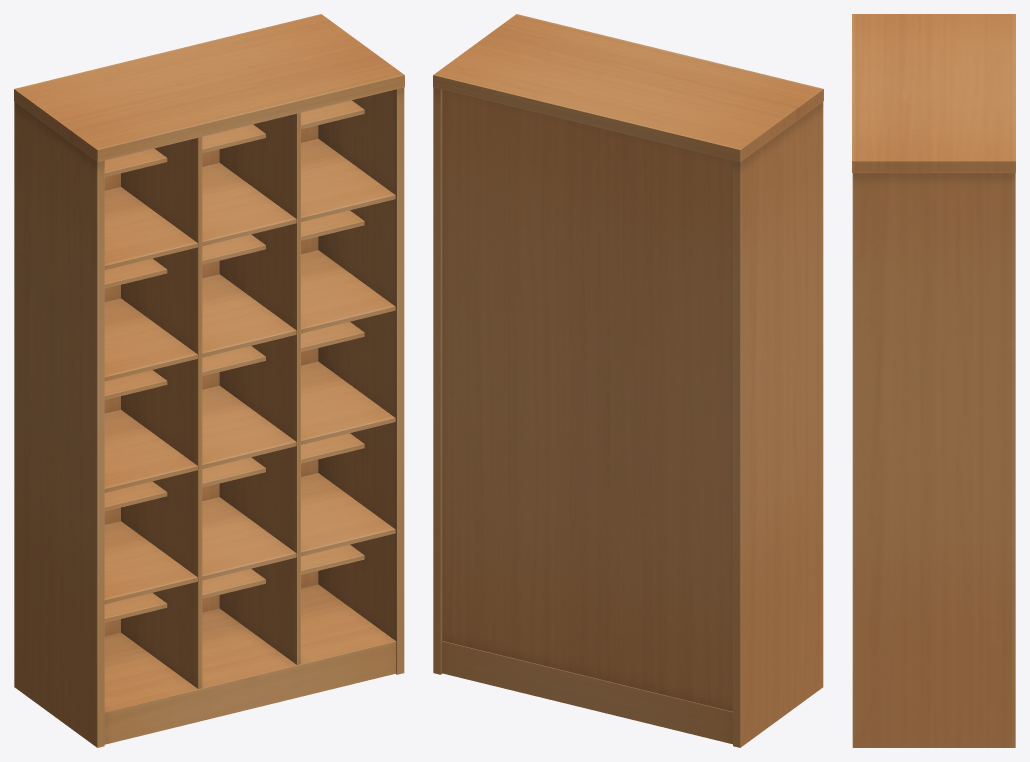
File: set_shoecupboard_b_12.fbx
The picture shows the model from 3 angles, left to right: view 1: azimuth 30°, elevation 25°; view 2: azimuth 150°, elevation 25°; view 3: azimuth 270°, elevation 25°; orthographic projection.
Visible parts, largest first — view 1: set_shoecupboard_b_12; view 2: set_shoecupboard_b_12; view 3: set_shoecupboard_b_12.
Boxes of the visible parts, bbox=[...] form: set_shoecupboard_b_12: bbox=[14, 14, 404, 747]; set_shoecupboard_b_12: bbox=[433, 14, 823, 747]; set_shoecupboard_b_12: bbox=[852, 14, 1015, 747].
Size of the model in its own units: 79.39 by 148 by 37.38.
